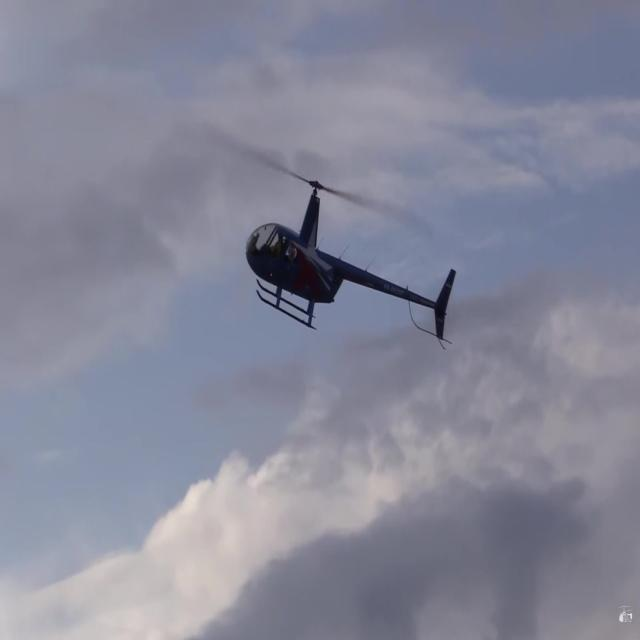CIV_HELO: (244, 178, 457, 342)
